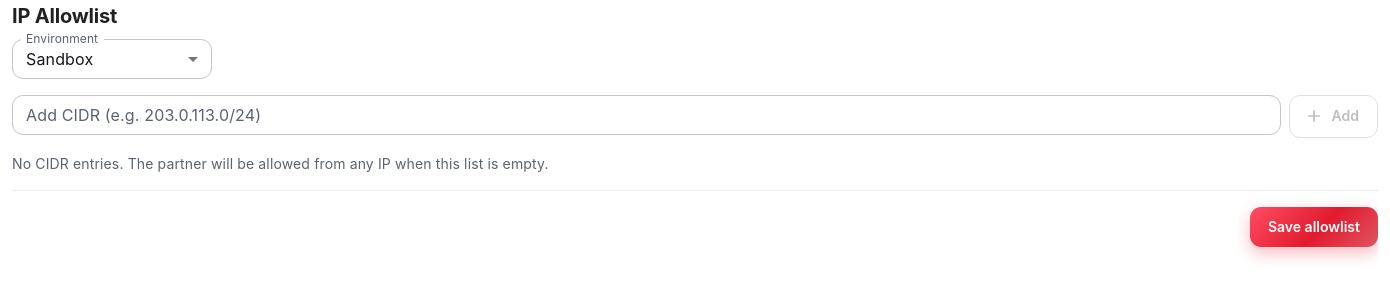
Test case: IpAllowlistSection › adds a CIDR entry and shows it in the list
Step 1. Type "192.168.1.0/24" into the field named "cidr-input" → (646, 115), box [12, 95, 1280, 135]
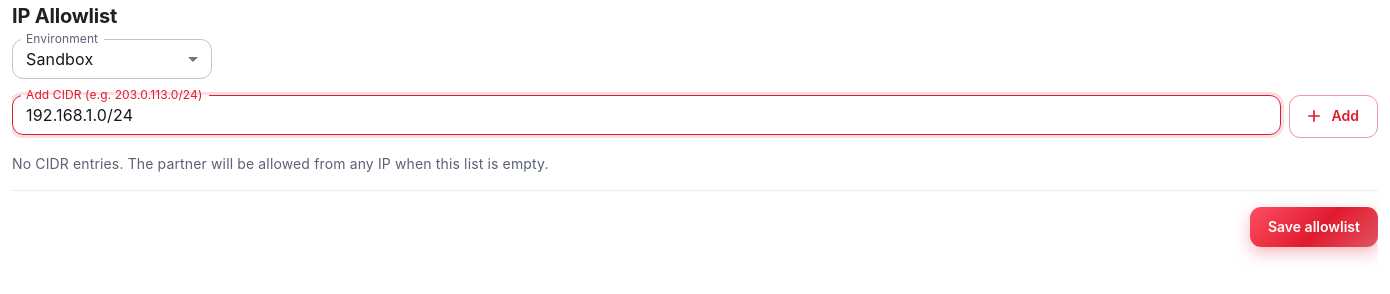
Step 2. Click the button with aria-label "add-cidr" → (1333, 116), box [1288, 95, 1378, 138]
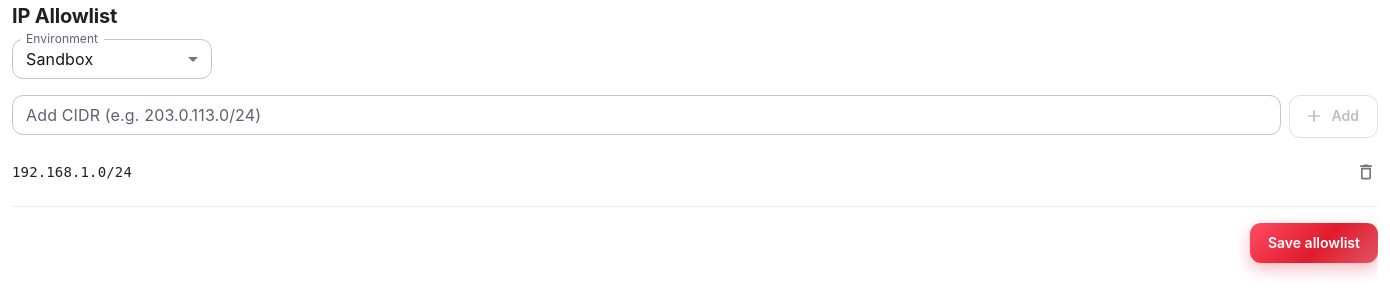
Result: the text "192.168.1.0/24" is shown at [12, 164, 132, 180]
